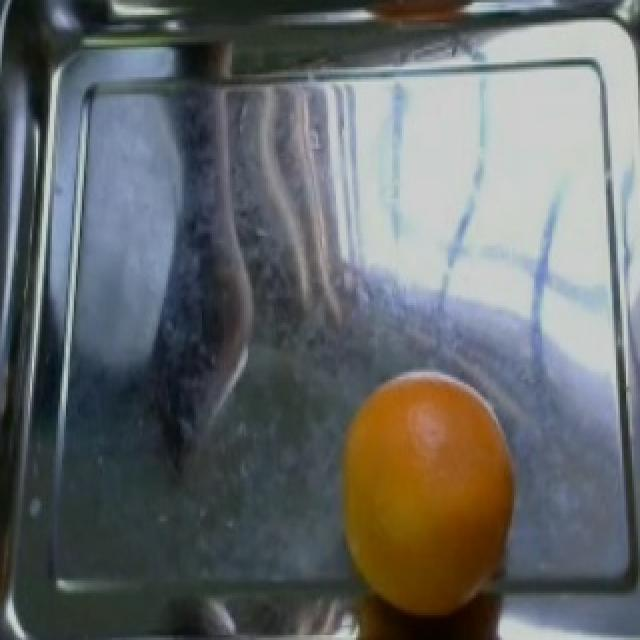Fruit: (326, 370, 526, 632)
